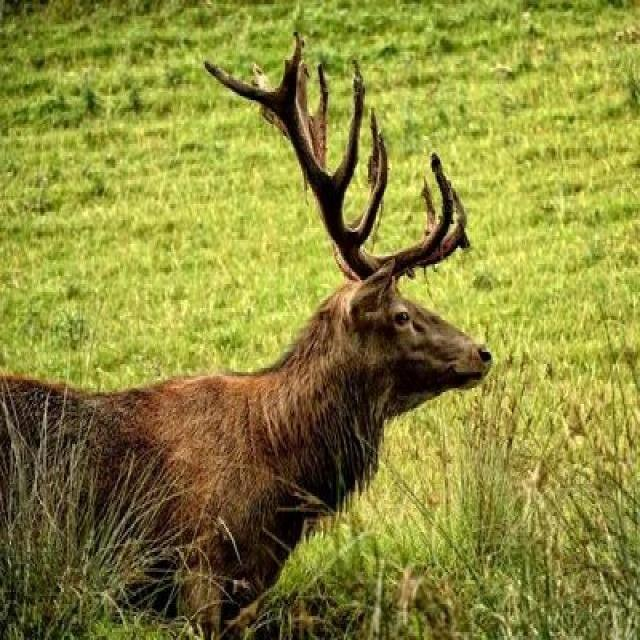deer: (101, 120, 545, 603)
